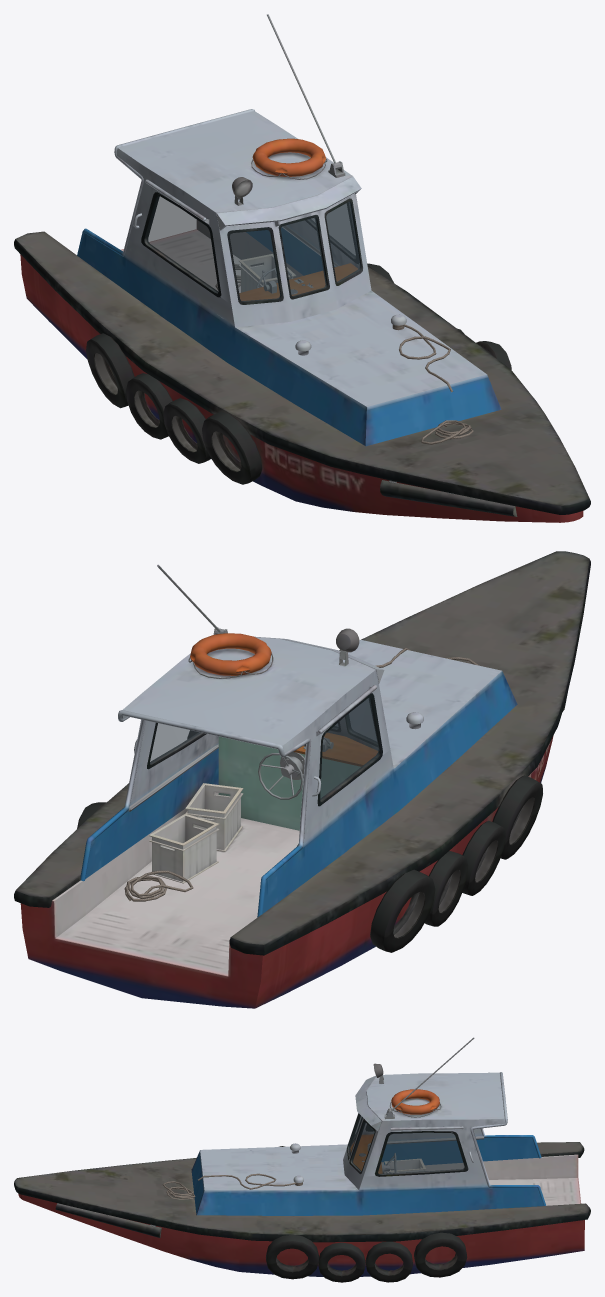
The model's file is boat_work.glb.
The picture shows the model from 3 angles, top to bottom: view 1: azimuth 30°, elevation 25°; view 2: azimuth 150°, elevation 25°; view 3: azimuth 270°, elevation 25°; orthographic projection. The views are drawn at different scales.
Parts seen in each view (by area): view 1: Middle_LP.001_Ship_Mat_0, Glass_LP_Windows_Mat_0; view 2: Middle_LP.001_Ship_Mat_0, Glass_LP_Windows_Mat_0, RopeCircleMesh.002_Rope_mat_0; view 3: Middle_LP.001_Ship_Mat_0, Glass_LP_Windows_Mat_0, RopeTopMesh.001_Rope_mat_0.
Boxes of the visible parts, <box> form: Middle_LP.001_Ship_Mat_0: <box>14,14,590,522</box>; Glass_LP_Windows_Mat_0: <box>146,196,360,301</box>; Middle_LP.001_Ship_Mat_0: <box>14,551,590,1008</box>; Glass_LP_Windows_Mat_0: <box>150,697,379,800</box>; RopeCircleMesh.002_Rope_mat_0: <box>124,870,193,901</box>; Middle_LP.001_Ship_Mat_0: <box>14,1037,590,1282</box>; Glass_LP_Windows_Mat_0: <box>349,1115,464,1174</box>; RopeTopMesh.001_Rope_mat_0: <box>198,1173,296,1189</box>.
Size of the model in its own units: 5.67 by 6.24 by 14.
Materials: 3 (2 with a texture image).
